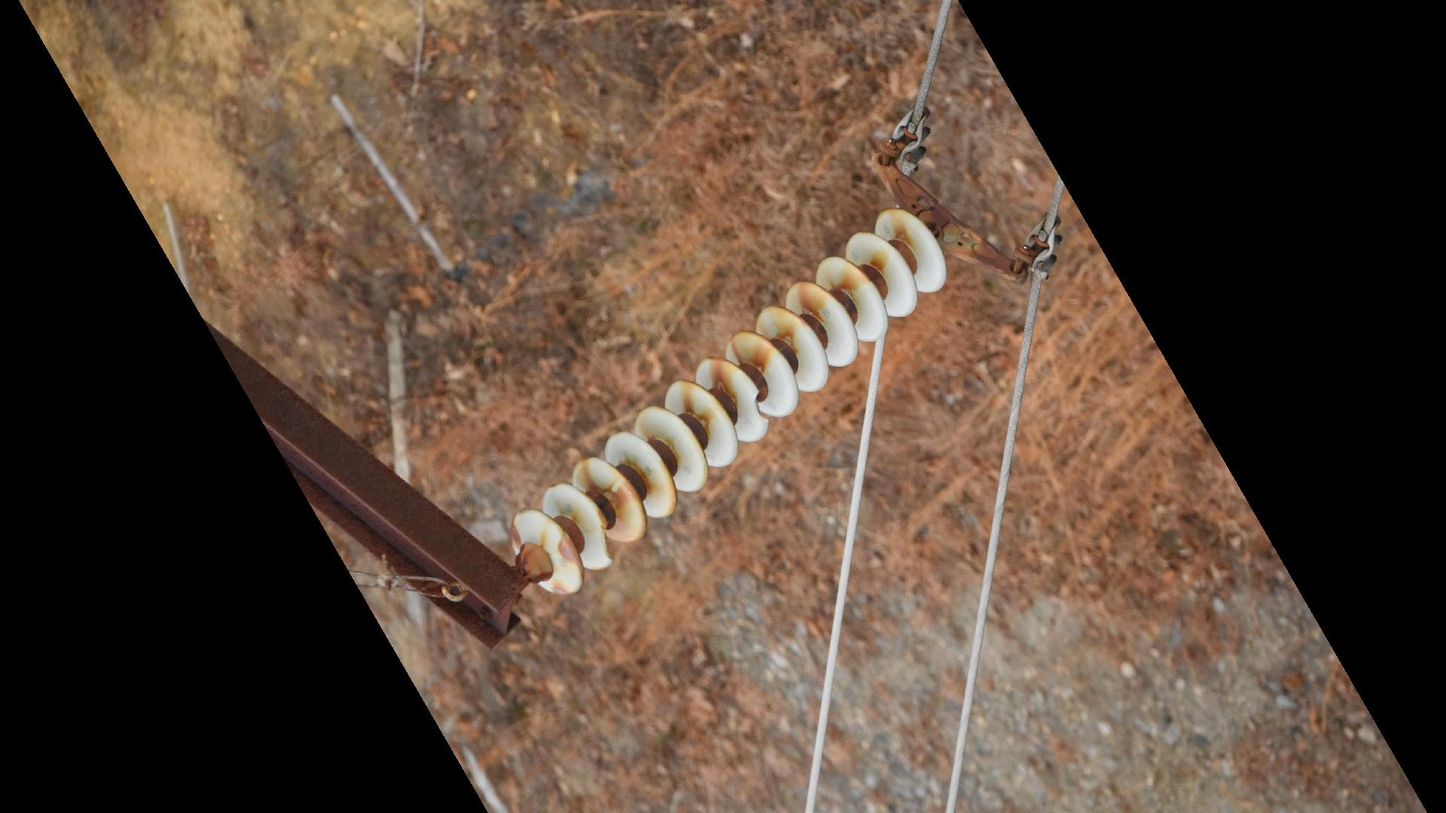insulator: (506, 201, 951, 601)
insulator_breakage: (745, 381, 776, 433), (593, 514, 621, 569)
